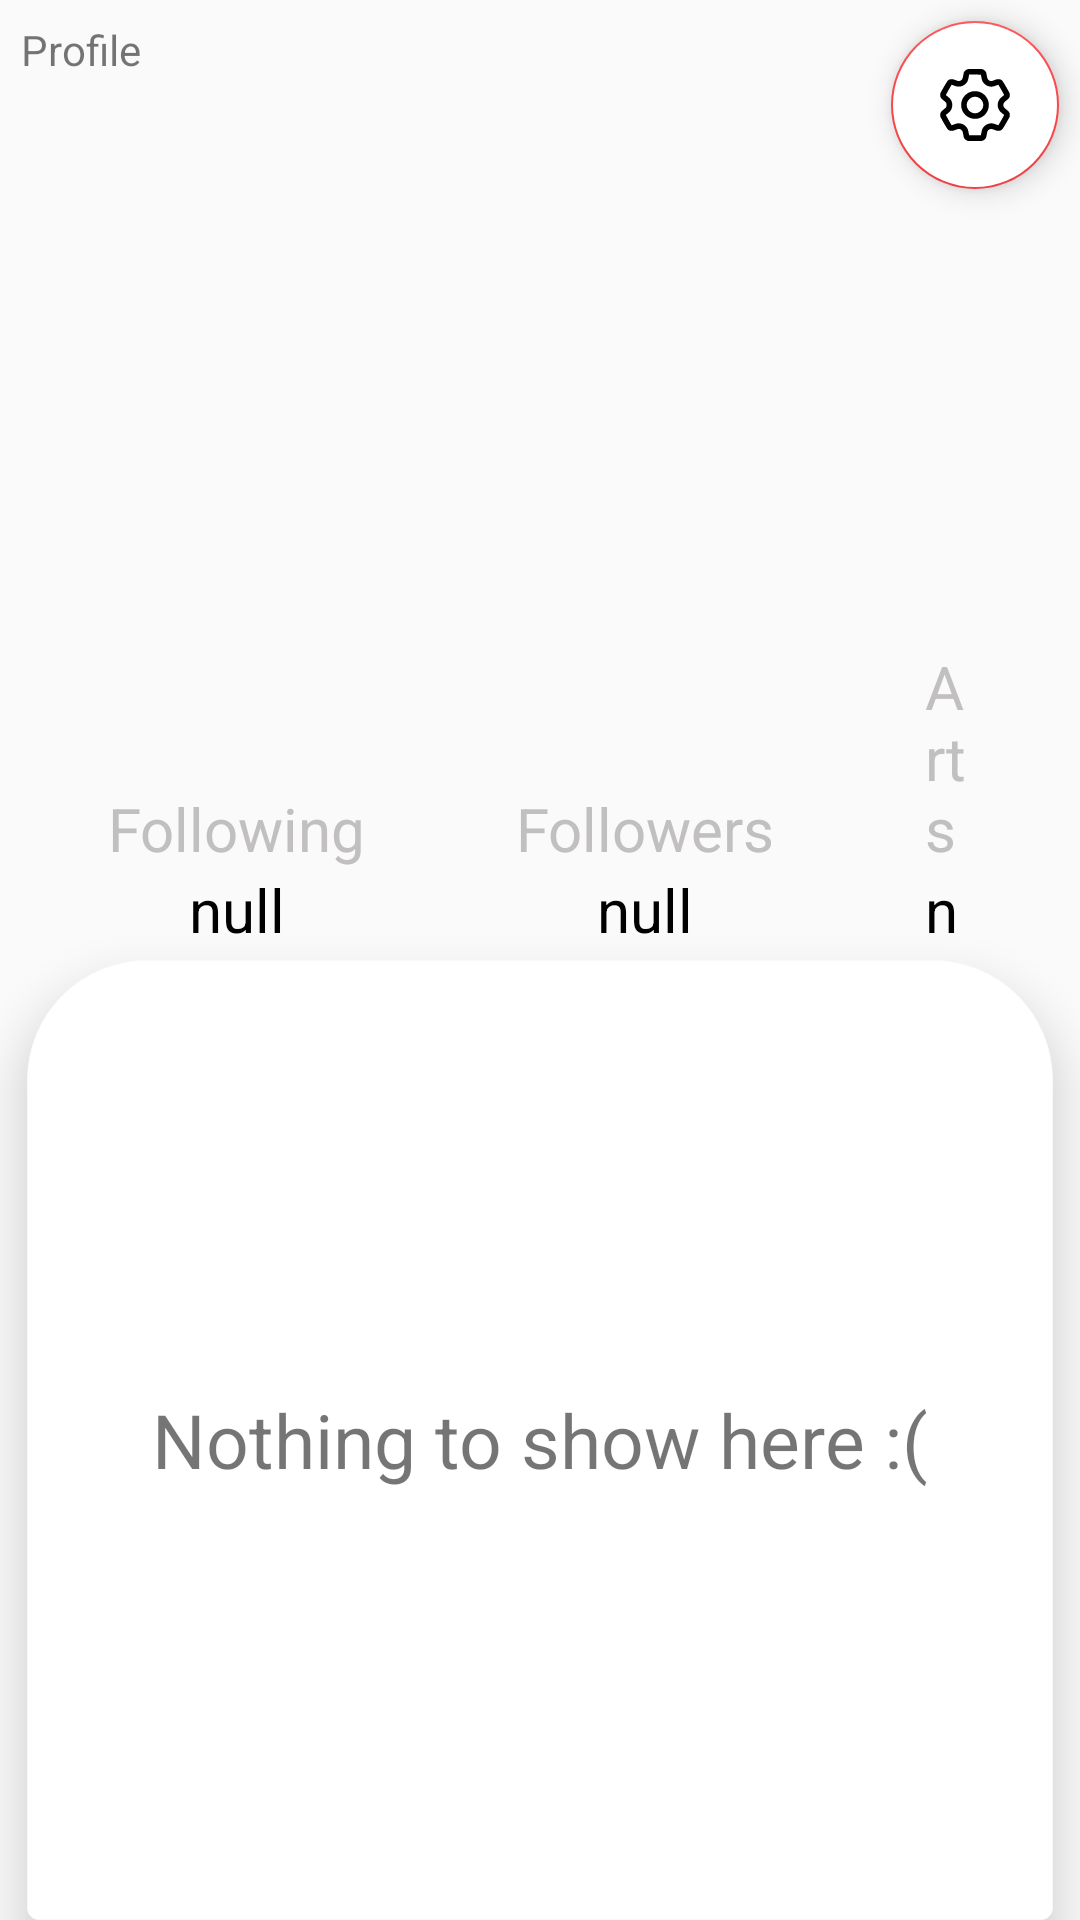

Icon click points for this 1080px×1920px phone screenshot, format (x,y):
Settings: (975,105)
